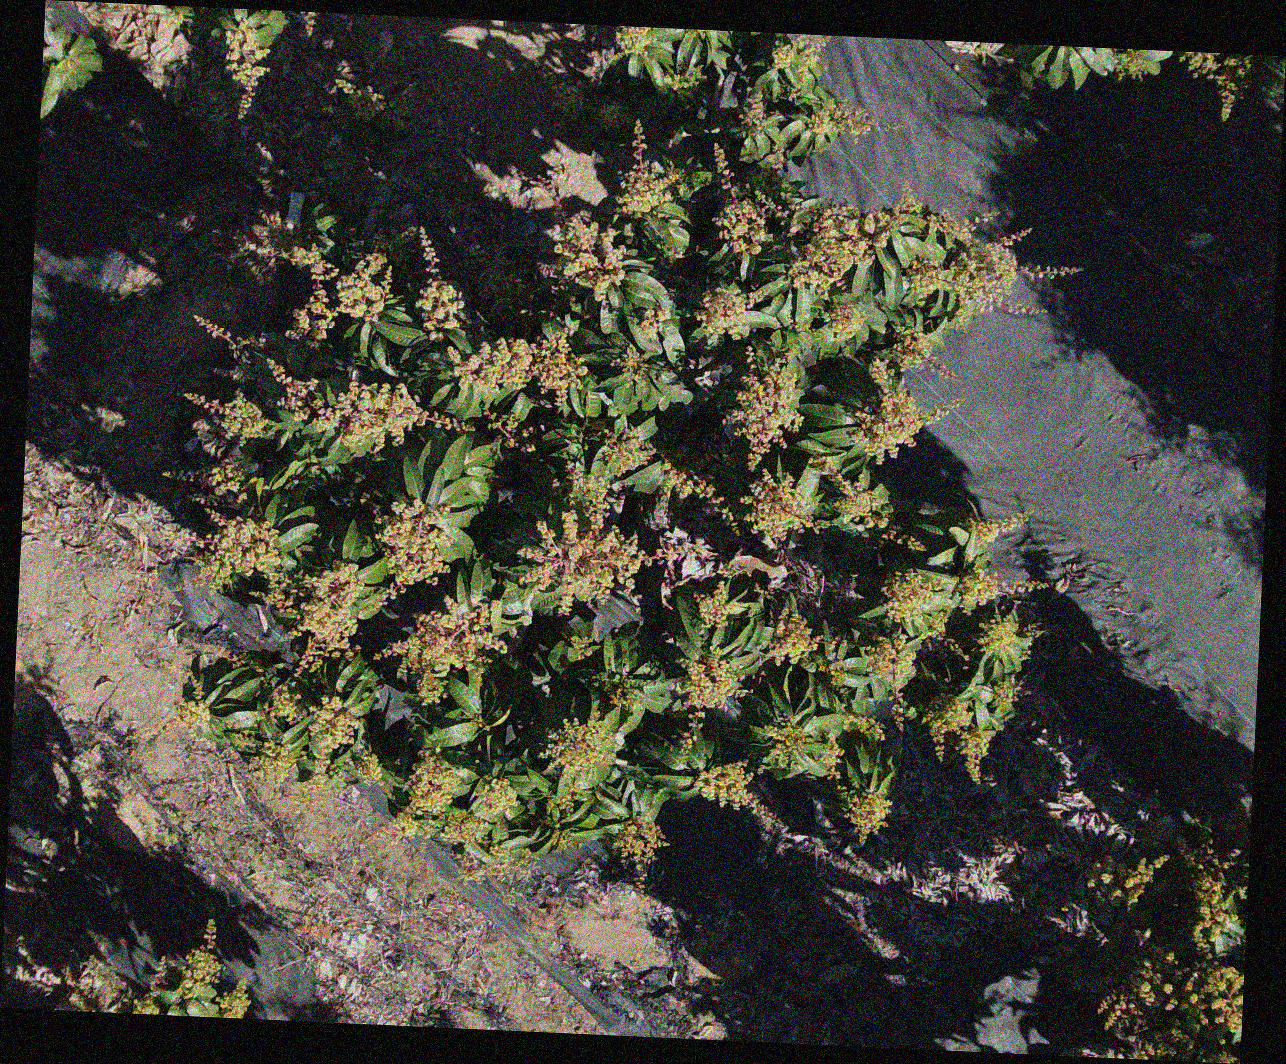flowers: (791, 194, 1024, 308), (268, 205, 395, 349), (519, 466, 643, 612), (265, 363, 459, 452), (1100, 946, 1243, 1061), (383, 597, 507, 705), (250, 684, 360, 794), (809, 458, 927, 549), (268, 560, 364, 669), (386, 749, 491, 847), (448, 328, 589, 401), (711, 144, 798, 256), (726, 348, 804, 469), (374, 499, 453, 593), (1181, 842, 1248, 949), (694, 760, 789, 832), (921, 693, 993, 783), (676, 650, 743, 744), (620, 122, 685, 218), (197, 516, 281, 590), (554, 215, 626, 300), (852, 388, 925, 464), (542, 716, 620, 784), (742, 472, 816, 541), (1179, 53, 1252, 120), (184, 391, 272, 443), (224, 20, 269, 120), (1088, 852, 1169, 907), (957, 568, 1047, 616), (193, 316, 255, 379), (809, 100, 900, 141), (181, 919, 223, 1001), (695, 287, 760, 338), (893, 328, 958, 378), (335, 61, 388, 123), (417, 279, 465, 342), (614, 817, 668, 872), (770, 608, 820, 666), (249, 682, 309, 727), (882, 569, 934, 623), (867, 633, 915, 689), (602, 428, 656, 478), (843, 791, 892, 842), (482, 411, 537, 453), (763, 721, 809, 769), (772, 35, 831, 73), (248, 742, 294, 787), (927, 613, 970, 659), (174, 680, 211, 733), (976, 510, 1031, 544), (695, 581, 735, 628), (979, 611, 1019, 657), (474, 777, 519, 816), (824, 302, 866, 342), (843, 707, 887, 741), (613, 346, 648, 384), (217, 981, 251, 1019), (552, 83, 587, 120), (1114, 50, 1154, 82), (639, 306, 672, 339), (615, 27, 653, 54), (355, 751, 383, 785), (741, 95, 765, 137), (820, 738, 844, 780), (665, 67, 704, 92), (992, 679, 1021, 711), (944, 42, 1004, 57), (569, 633, 598, 662), (597, 101, 626, 130), (868, 358, 894, 390), (819, 659, 847, 687), (891, 691, 906, 732), (30, 335, 48, 367), (1000, 303, 1047, 315), (230, 730, 256, 750), (1210, 1050, 1241, 1064), (1077, 1049, 1122, 1058)
